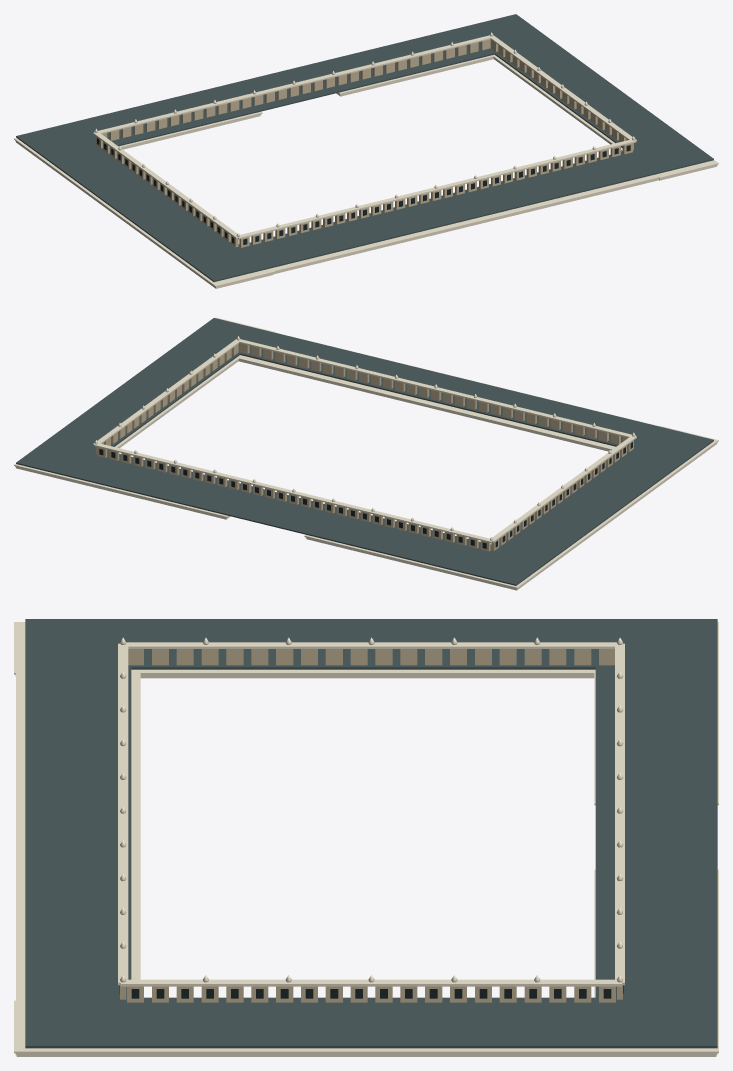
Rendered from KOL_T1_INDIAN_MUSEUM__04_RoofsCrown.fbx.
The picture shows the model from 3 angles, top to bottom: view 1: azimuth 30°, elevation 25°; view 2: azimuth 150°, elevation 25°; view 3: azimuth 270°, elevation 25°; orthographic projection. The views are drawn at different scales.
Visible parts, largest first — view 1: KOL_T1_INDIAN_MUSEUM__04_RoofsCrown__KOL_T1_B4_MuseumRoof_00, KOL_T1_INDIAN_MUSEUM__04_RoofsCrown__KOL_T1_B4_MuseumTrim_00, KOL_T1_INDIAN_MUSEUM__04_RoofsCrown__KOL_T1_B4_MuseumWall_00, KOL_T1_INDIAN_MUSEUM__04_RoofsCrown__KOL_T1_B4_Dark_00; view 2: KOL_T1_INDIAN_MUSEUM__04_RoofsCrown__KOL_T1_B4_MuseumRoof_00, KOL_T1_INDIAN_MUSEUM__04_RoofsCrown__KOL_T1_B4_MuseumTrim_00, KOL_T1_INDIAN_MUSEUM__04_RoofsCrown__KOL_T1_B4_MuseumWall_00, KOL_T1_INDIAN_MUSEUM__04_RoofsCrown__KOL_T1_B4_Dark_00; view 3: KOL_T1_INDIAN_MUSEUM__04_RoofsCrown__KOL_T1_B4_MuseumRoof_00, KOL_T1_INDIAN_MUSEUM__04_RoofsCrown__KOL_T1_B4_MuseumTrim_00, KOL_T1_INDIAN_MUSEUM__04_RoofsCrown__KOL_T1_B4_MuseumWall_00, KOL_T1_INDIAN_MUSEUM__04_RoofsCrown__KOL_T1_B4_Dark_00.
Boxes of the visible parts, x1,y1,x2,y2 form: KOL_T1_INDIAN_MUSEUM__04_RoofsCrown__KOL_T1_B4_MuseumRoof_00: (16, 14, 713, 281); KOL_T1_INDIAN_MUSEUM__04_RoofsCrown__KOL_T1_B4_MuseumTrim_00: (14, 32, 718, 288); KOL_T1_INDIAN_MUSEUM__04_RoofsCrown__KOL_T1_B4_MuseumWall_00: (96, 39, 633, 247); KOL_T1_INDIAN_MUSEUM__04_RoofsCrown__KOL_T1_B4_Dark_00: (97, 138, 630, 244); KOL_T1_INDIAN_MUSEUM__04_RoofsCrown__KOL_T1_B4_MuseumRoof_00: (16, 318, 713, 585); KOL_T1_INDIAN_MUSEUM__04_RoofsCrown__KOL_T1_B4_MuseumTrim_00: (14, 317, 718, 590); KOL_T1_INDIAN_MUSEUM__04_RoofsCrown__KOL_T1_B4_MuseumWall_00: (96, 343, 633, 551); KOL_T1_INDIAN_MUSEUM__04_RoofsCrown__KOL_T1_B4_Dark_00: (99, 442, 632, 548); KOL_T1_INDIAN_MUSEUM__04_RoofsCrown__KOL_T1_B4_MuseumRoof_00: (25, 619, 717, 1048); KOL_T1_INDIAN_MUSEUM__04_RoofsCrown__KOL_T1_B4_MuseumTrim_00: (14, 622, 718, 1056); KOL_T1_INDIAN_MUSEUM__04_RoofsCrown__KOL_T1_B4_MuseumWall_00: (120, 649, 622, 1002); KOL_T1_INDIAN_MUSEUM__04_RoofsCrown__KOL_T1_B4_Dark_00: (119, 985, 623, 998).
Size of the model in its own units: 250 by 10.08 by 173.
4 materials, 1 textured.
